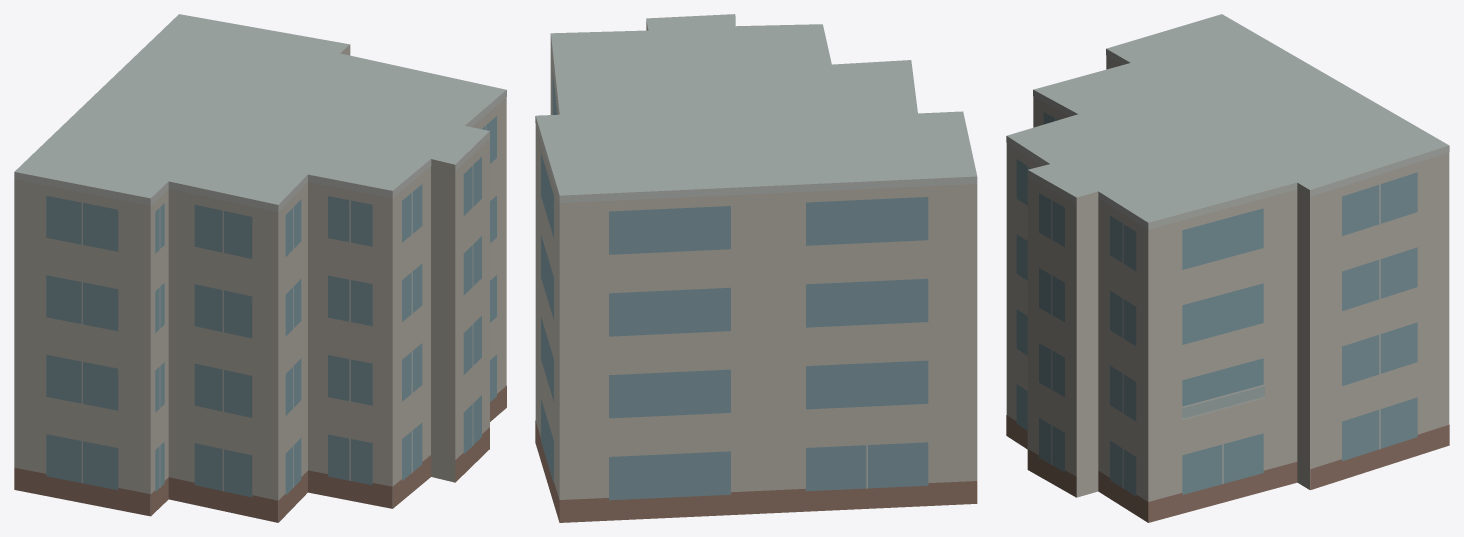
Rendered from survey-upis-32583219.glb.
The picture shows the model from 3 angles, left to right: view 1: azimuth 30°, elevation 25°; view 2: azimuth 150°, elevation 25°; view 3: azimuth 270°, elevation 25°; orthographic projection. The views are drawn at different scales.
Parts seen in each view (by area): view 1: survey-upis-32583219.tmp; view 2: survey-upis-32583219.tmp; view 3: survey-upis-32583219.tmp.
Boxes of the visible parts, <box> form: survey-upis-32583219.tmp: <box>14,14,506,522</box>; survey-upis-32583219.tmp: <box>535,14,977,522</box>; survey-upis-32583219.tmp: <box>1006,14,1449,522</box>.
Size of the model in its own units: 15.98 by 10.7 by 14.32.
